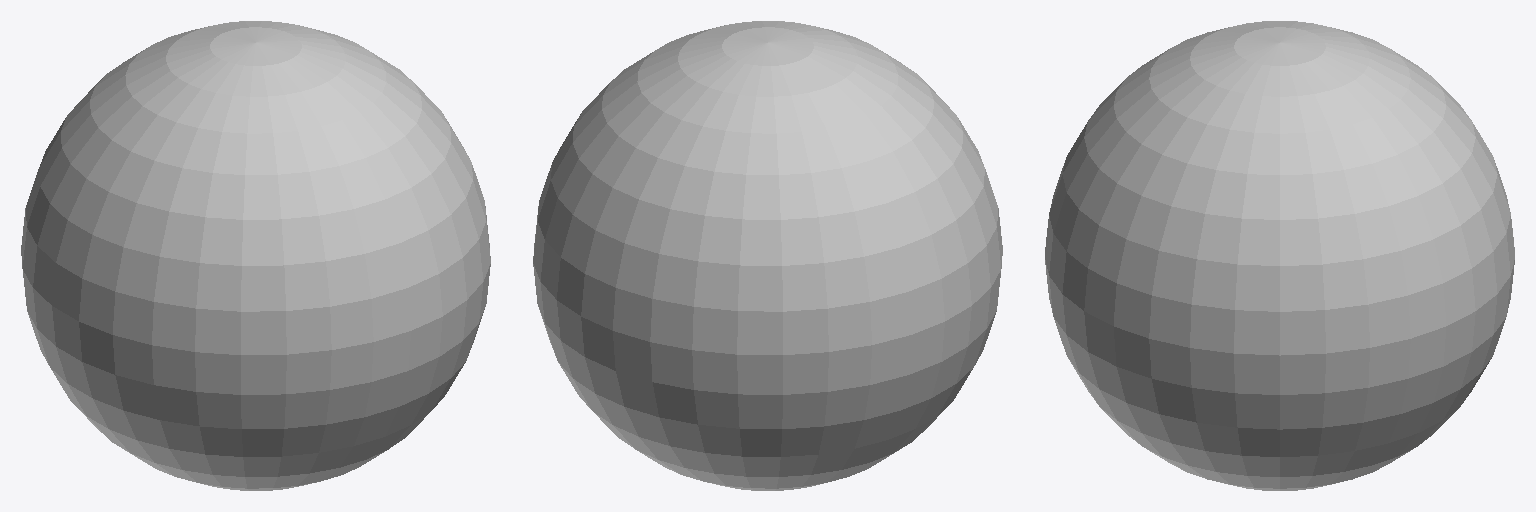
File: blendermoon.obj
3 views of the same model, side by side, from view 1: azimuth 30°, elevation 25°; view 2: azimuth 150°, elevation 25°; view 3: azimuth 270°, elevation 25° (orthographic).
Visible parts, largest first — view 1: Sphere; view 2: Sphere; view 3: Sphere.
Part boxes in pixels (x1,y1,x2,y2): Sphere: (21,21,490,490); Sphere: (533,21,1002,490); Sphere: (1045,21,1514,490).
Bounding box in the file's own units: 2 × 2 × 2.